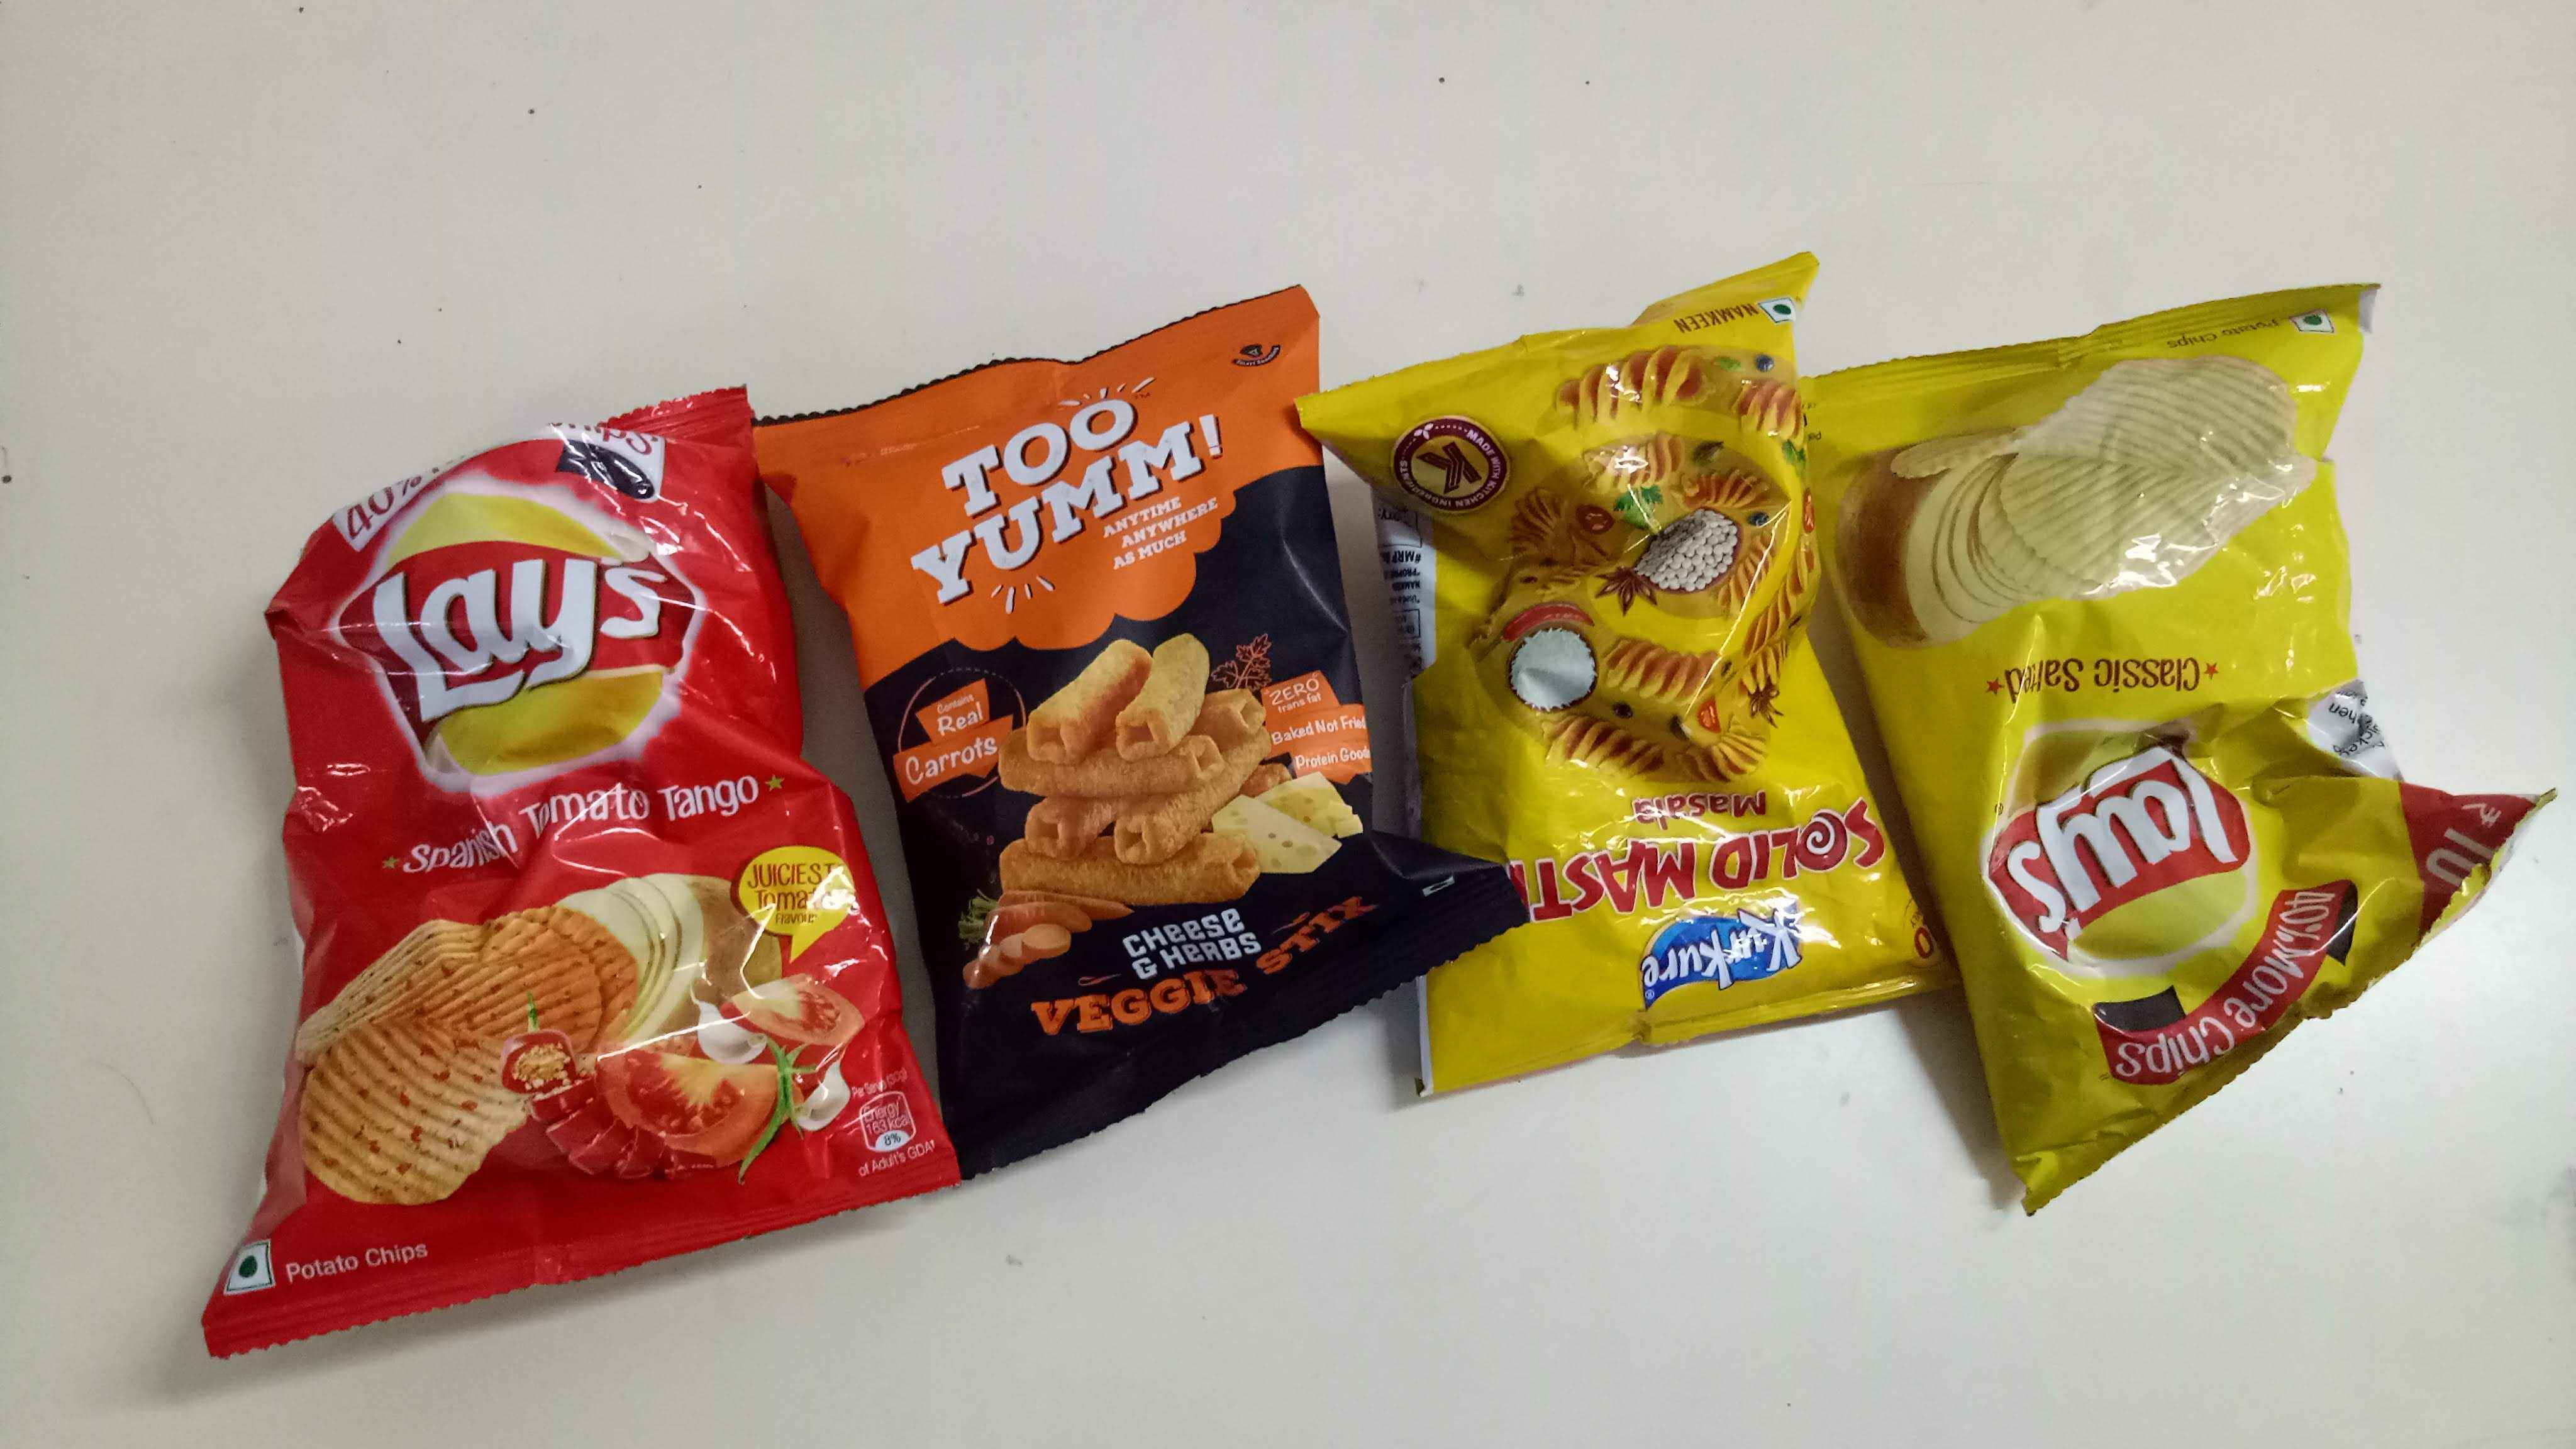Lays: (356, 495, 708, 801), (2006, 699, 2275, 987)
kurkure: (1614, 906, 1815, 1049)
tooyumm: (911, 382, 1253, 621)
